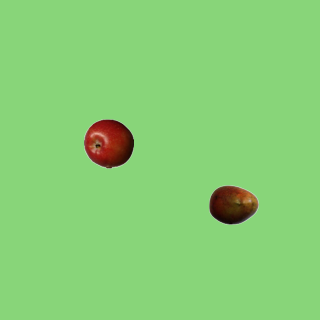Apple Braeburn: (83, 118, 133, 168)
Mango Red: (208, 179, 258, 229)
